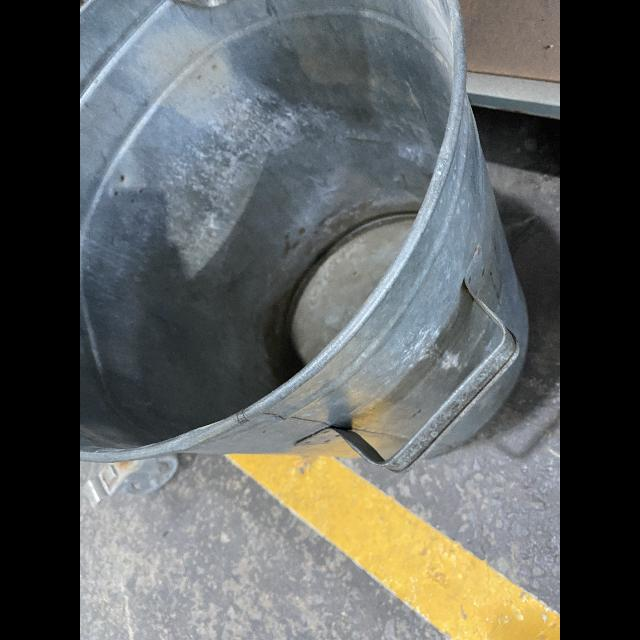Galvanized Steel: (80, 0, 529, 472)
